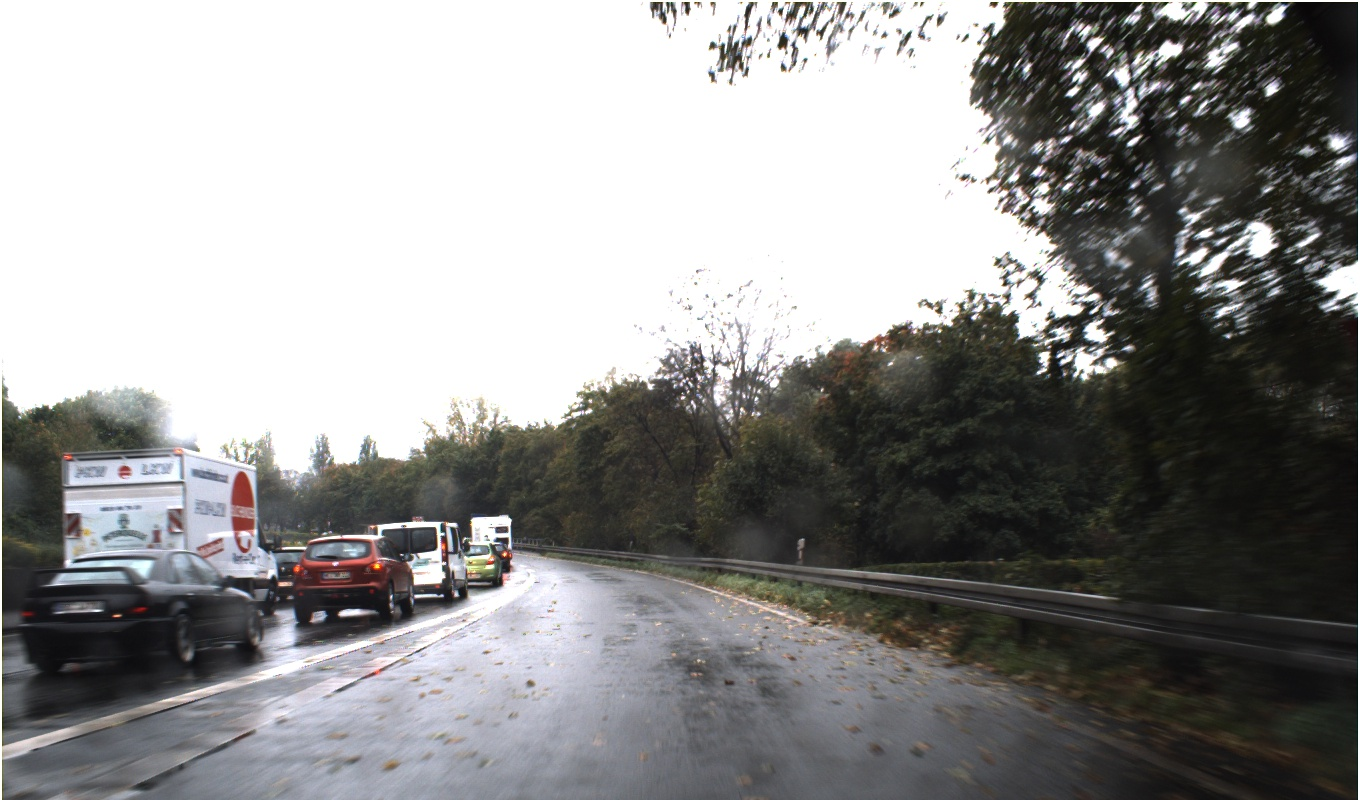car: (21, 541, 262, 704), (70, 447, 278, 623), (307, 545, 418, 645), (385, 514, 462, 617), (272, 521, 318, 613), (469, 527, 502, 599), (473, 512, 518, 556), (491, 553, 517, 570)
